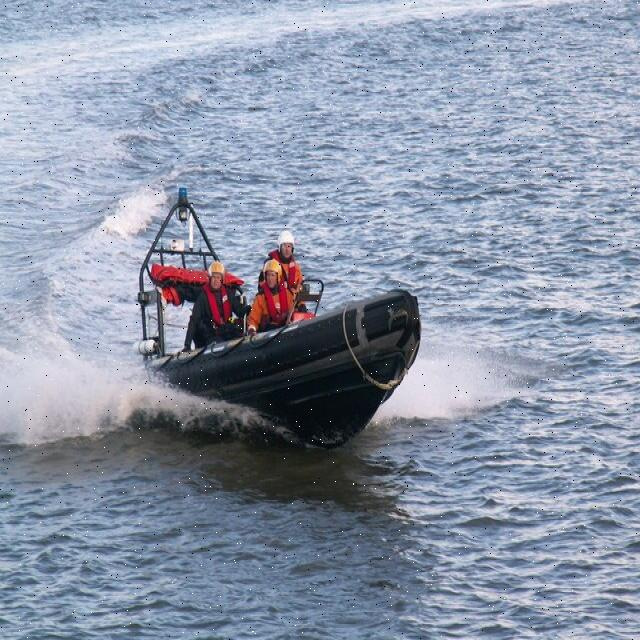rescuer: (195, 255, 240, 335), (251, 258, 295, 332), (267, 226, 304, 273)
